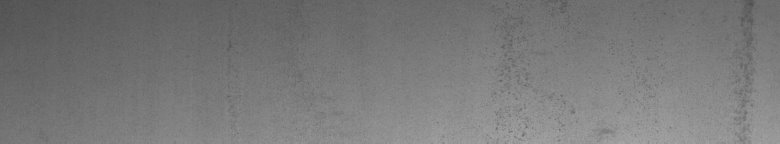ib: (496, 4, 656, 136)
